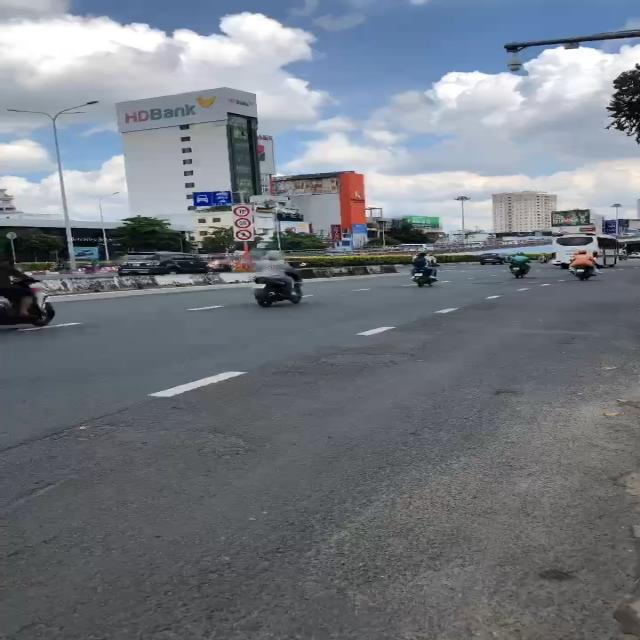Bien bao cam nguoi di bo: (235, 229, 255, 240)
Bien bao toc do toi da cho phep: (234, 218, 253, 229)
